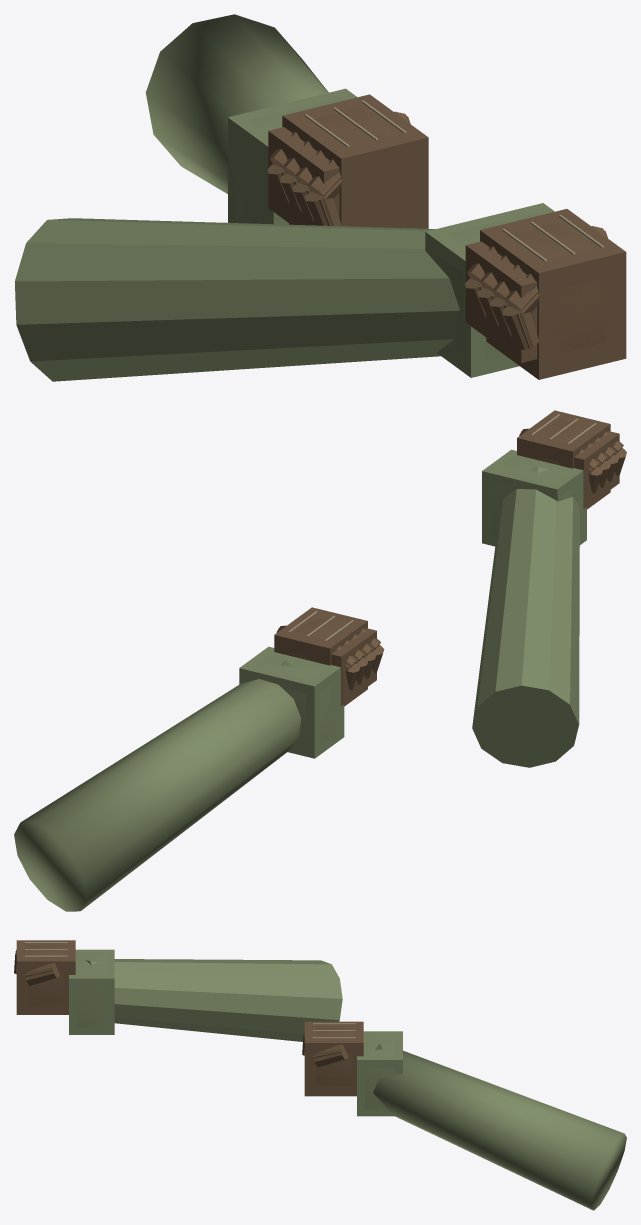
The model's file is PlayerHands.glb.
The picture shows the model from 3 angles, top to bottom: view 1: azimuth 30°, elevation 25°; view 2: azimuth 150°, elevation 25°; view 3: azimuth 270°, elevation 25°; orthographic projection. The views are drawn at different scales.
Visible parts, largest first — view 1: LOD0_HandLeftSleeve, LOD0_HandRightSleeve, LOD1_HandLeftGlove, LOD1_HandRightGlove, LOD0_HandLeftGlove, LOD1_HandRightSleeve, LOD1_HandLeftSleeve, LOD0_HandRightGlove, LOD2_HandLeftGlove, LOD2_HandRightGlove, LOD0_HandLeftStitch, LOD0_HandRightStitch; view 2: LOD0_HandRightSleeve, LOD0_HandLeftSleeve, LOD1_HandLeftSleeve, LOD1_HandRightSleeve, LOD1_HandLeftGlove, LOD1_HandRightGlove, LOD0_HandLeftGlove, LOD0_HandRightGlove, LOD2_HandLeftGlove, LOD2_HandRightGlove; view 3: LOD0_HandRightSleeve, LOD0_HandLeftSleeve, LOD1_HandLeftSleeve, LOD1_HandLeftGlove, LOD1_HandRightGlove, LOD1_HandRightSleeve, LOD0_HandRightGlove, LOD0_HandLeftGlove.
Part boxes in pixels (left/top/right/bottom): LOD0_HandLeftSleeve: left=14, top=212, right=540, bottom=381; LOD0_HandRightSleeve: left=145, top=14, right=343, bottom=224; LOD1_HandLeftGlove: left=466, top=209, right=626, bottom=379; LOD1_HandRightGlove: left=269, top=94, right=428, bottom=228; LOD0_HandLeftGlove: left=465, top=222, right=605, bottom=353; LOD1_HandRightSleeve: left=228, top=88, right=357, bottom=224; LOD1_HandLeftSleeve: left=425, top=203, right=554, bottom=377; LOD0_HandRightGlove: left=267, top=108, right=408, bottom=226; LOD2_HandLeftGlove: left=465, top=241, right=537, bottom=362; LOD2_HandRightGlove: left=268, top=127, right=339, bottom=225; LOD0_HandLeftStitch: left=502, top=214, right=603, bottom=262; LOD0_HandRightStitch: left=304, top=100, right=406, bottom=147; LOD0_HandRightSleeve: left=14, top=655, right=334, bottom=911; LOD0_HandLeftSleeve: left=472, top=455, right=579, bottom=767; LOD1_HandLeftSleeve: left=482, top=449, right=586, bottom=546; LOD1_HandRightSleeve: left=239, top=646, right=344, bottom=758; LOD1_HandLeftGlove: left=517, top=410, right=625, bottom=509; LOD1_HandRightGlove: left=274, top=607, right=382, bottom=706; LOD0_HandLeftGlove: left=519, top=419, right=626, bottom=493; LOD0_HandRightGlove: left=276, top=617, right=384, bottom=690; LOD2_HandLeftGlove: left=574, top=431, right=619, bottom=508; LOD2_HandRightGlove: left=331, top=628, right=376, bottom=705; LOD0_HandRightSleeve: left=365, top=1036, right=626, bottom=1210; LOD0_HandLeftSleeve: left=76, top=953, right=342, bottom=1041; LOD1_HandLeftSleeve: left=69, top=949, right=114, bottom=1034; LOD1_HandLeftGlove: left=15, top=940, right=75, bottom=1014; LOD1_HandRightGlove: left=304, top=1021, right=363, bottom=1096; LOD1_HandRightSleeve: left=357, top=1031, right=402, bottom=1116; LOD0_HandRightGlove: left=302, top=1026, right=351, bottom=1085; LOD0_HandLeftGlove: left=14, top=945, right=63, bottom=1004.
Bounding box in the file's own units: 0.5162 × 0.339 × 0.936.
